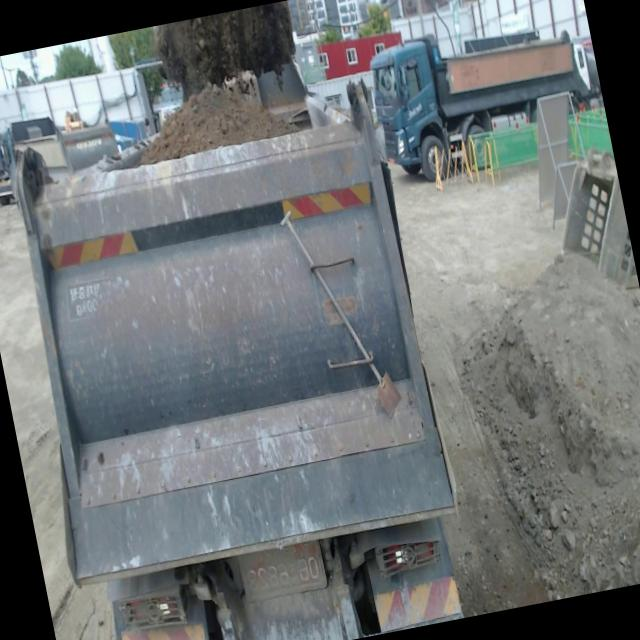red-sand: (138, 83, 304, 164)
white-sand: (392, 166, 563, 615), (460, 255, 640, 600), (0, 205, 116, 640)
